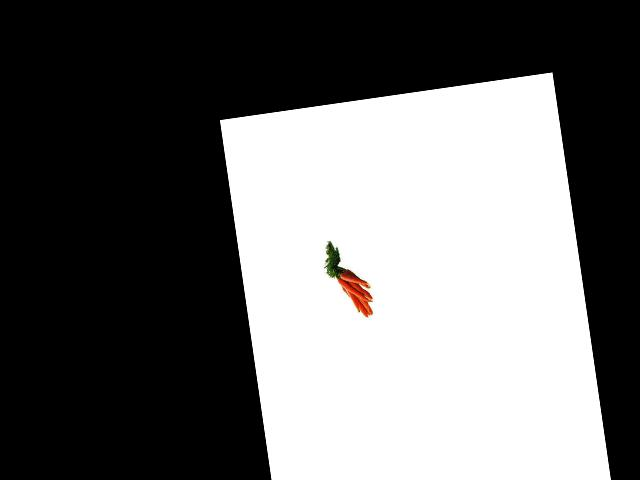carrot: (341, 264, 378, 286)
